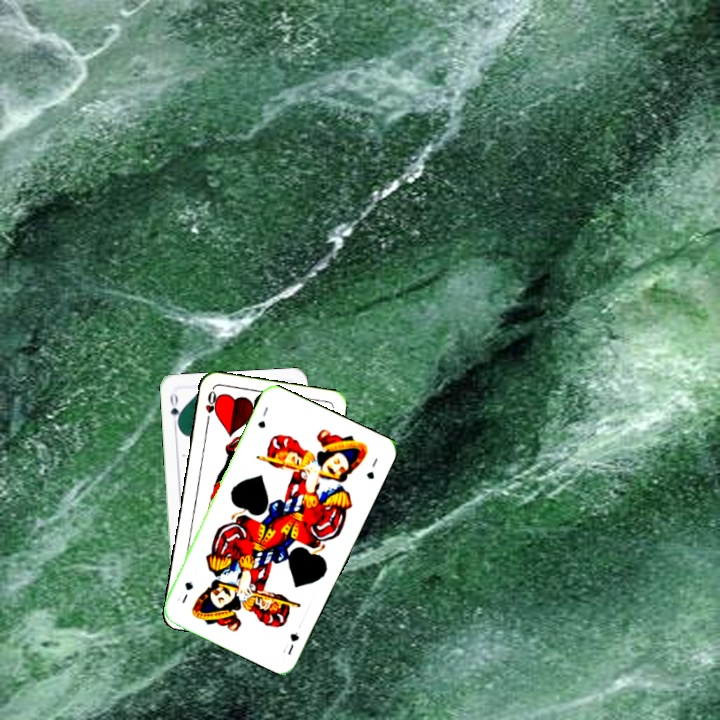GO: (166, 389, 184, 429)
GU: (279, 628, 302, 658), (253, 403, 271, 431)
HO: (201, 387, 221, 427)
